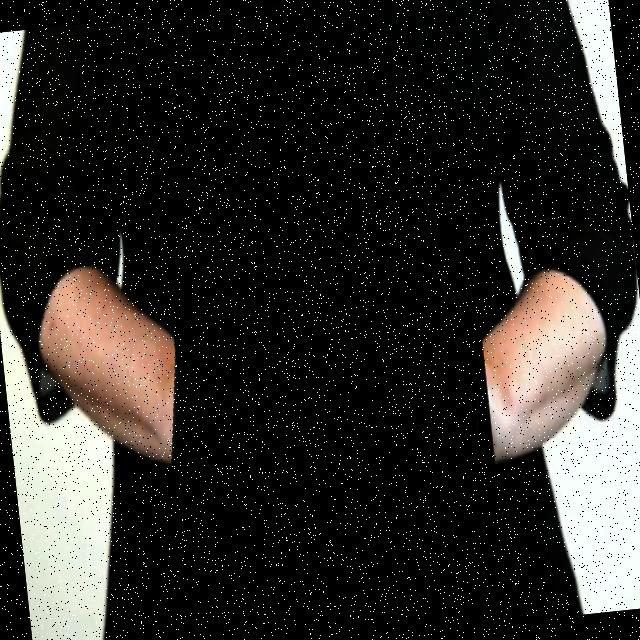B: (148, 144, 509, 522)
